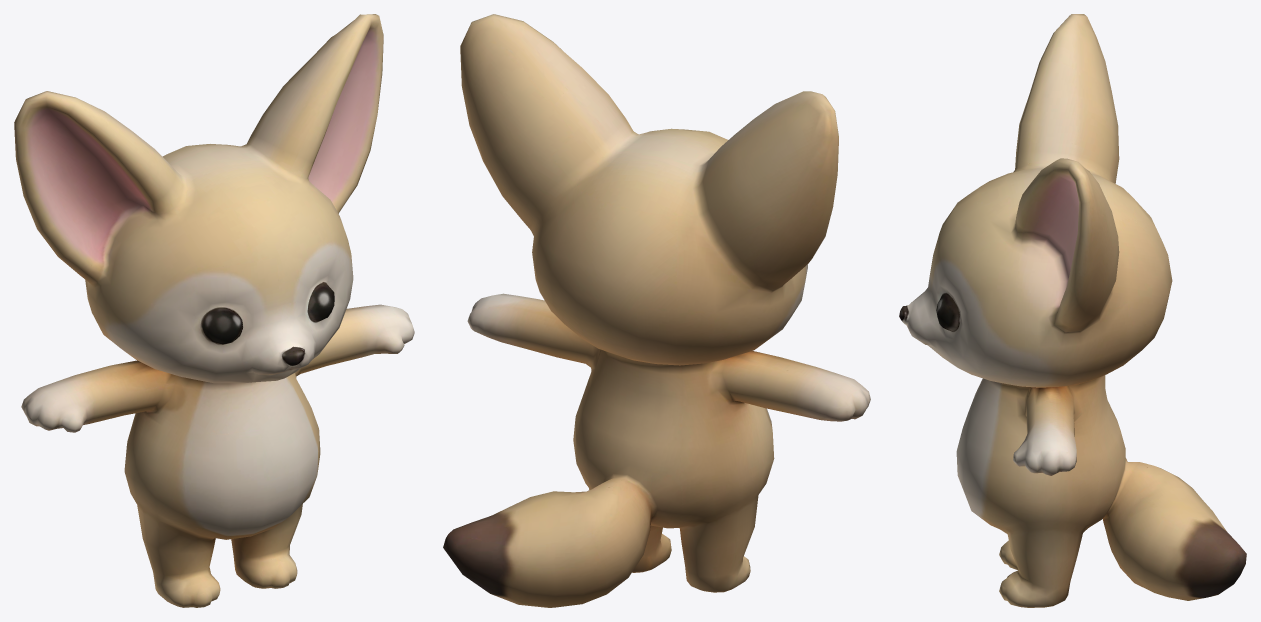
The model's file is fennec.glb.
3 views of the same model, side by side, from view 1: azimuth 30°, elevation 25°; view 2: azimuth 150°, elevation 25°; view 3: azimuth 270°, elevation 25° (orthographic). The views are drawn at different scales.
Visible parts, largest first — view 1: tripo_node_ac6de9ad-16b9-4f66-a135-408b29b6eaff; view 2: tripo_node_ac6de9ad-16b9-4f66-a135-408b29b6eaff; view 3: tripo_node_ac6de9ad-16b9-4f66-a135-408b29b6eaff.
Part boxes in pixels (x1,y1,x2,y2): tripo_node_ac6de9ad-16b9-4f66-a135-408b29b6eaff: (14,14,414,607); tripo_node_ac6de9ad-16b9-4f66-a135-408b29b6eaff: (443,14,870,607); tripo_node_ac6de9ad-16b9-4f66-a135-408b29b6eaff: (899,14,1246,607).
Size of the model in its own units: 0.7557 by 0.9775 by 0.6256.
1 material, 1 textured.
